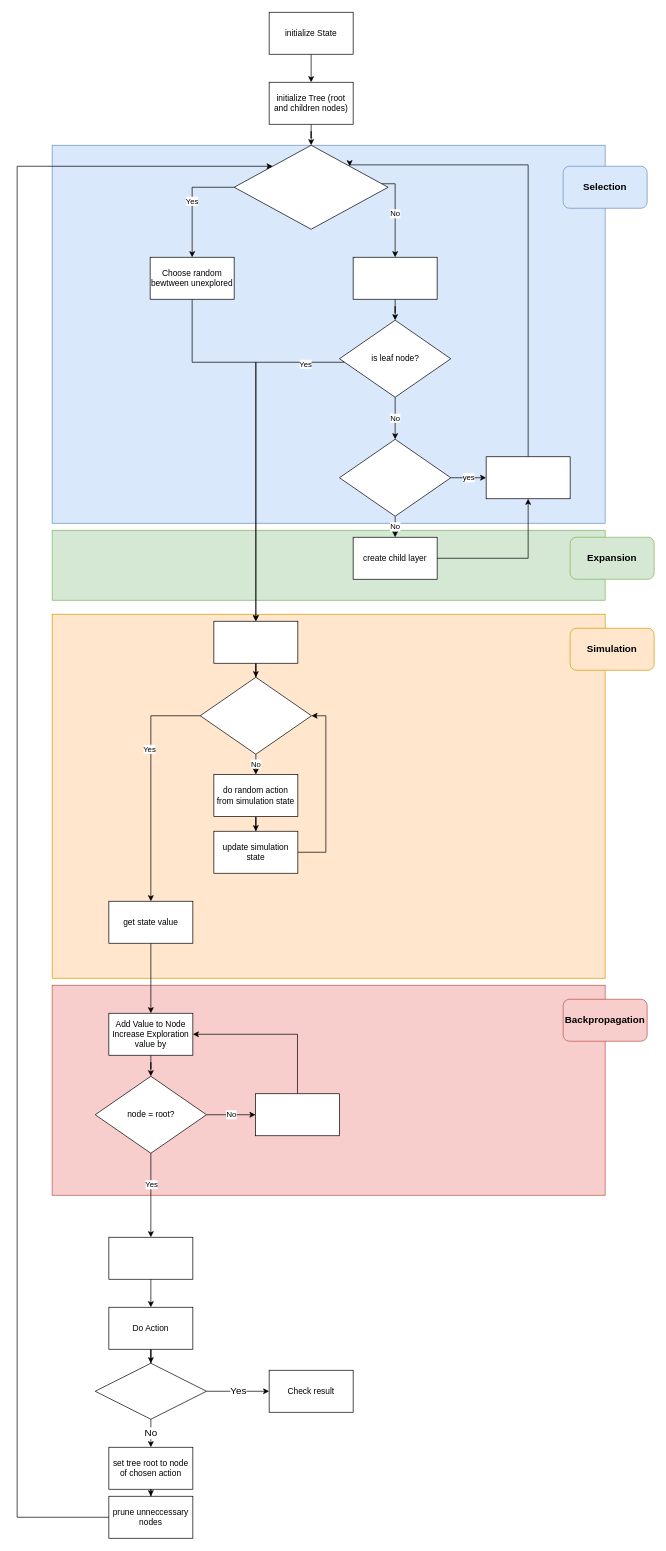
Some shapes in this 666 by 1551 pixel diagram are drawn without their labels. The shapes that lost their labels are listed below. From the top down, each one's centre as x and y in pixels, then its label:
At point 310,187: "Unexplored nodes in children layer?".
At point 394,278: "Choose node by ucb".
At point 395,477: "child layer exists?".
At point 527,477: "switch to next layer".
At point 255,642: "create simulation State".
At point 256,715: "is final state?".
At point 297,1114: "Change node to parent node".
At point 150,1258: "Choose action by highest value".
At point 150,1391: "Game over?".
